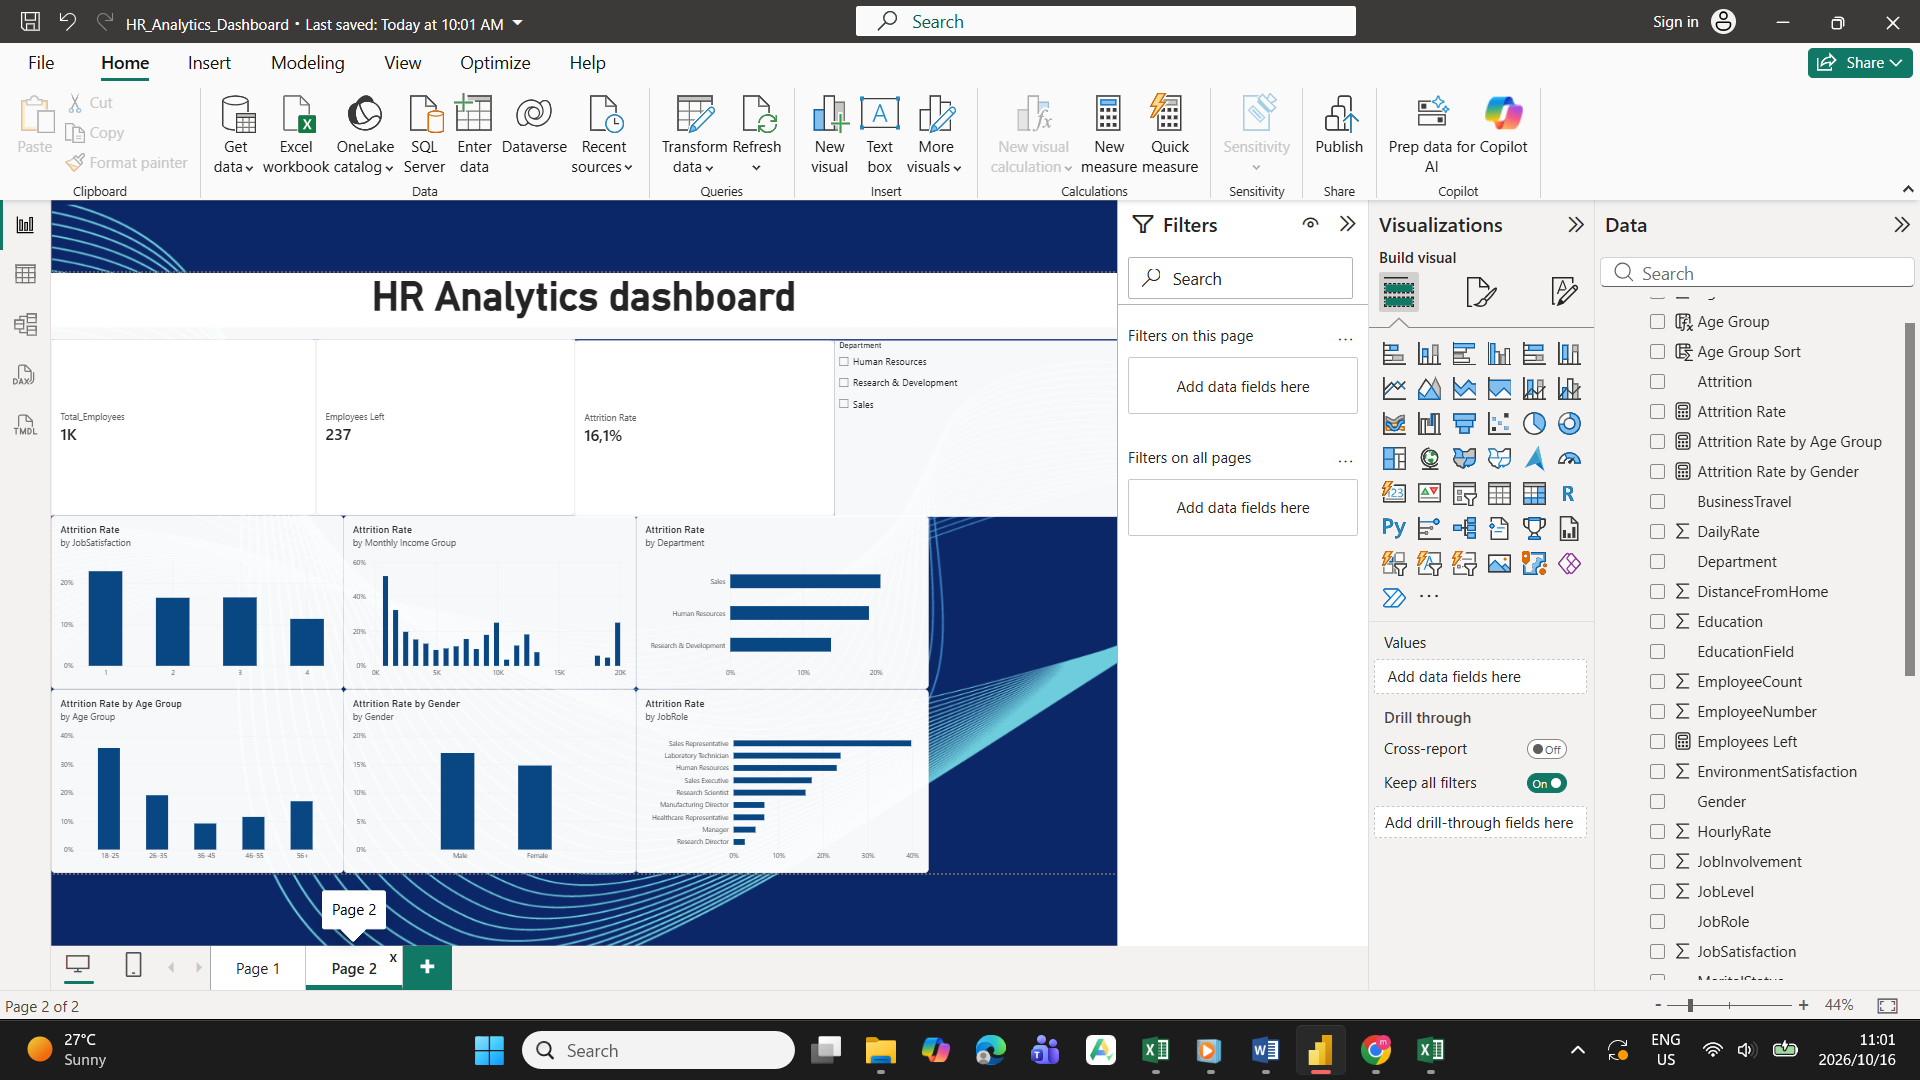

What the dashboard file says about the page in this screenshot:
{"tool":"powerbi","page":{"name":"Page 2","canvas":[1920,1080],"ordinal":1},"visuals":[{"type":"clusteredColumnChart","fields":{"Category":["Employees.Age Group"],"Y":["Employees.Attrition Rate by Age Group"]},"box":[0,749.7,526.8,331],"z":0},{"type":"cardVisual","fields":{"Data":["Employees.Total_Employees"]},"box":[0,0,477.3,317.4],"z":1},{"type":"cardVisual","fields":{"Data":["Employees.Employees Left"]},"box":[477.3,0,466,317.4],"z":2},{"type":"cardVisual","fields":{"Data":["Employees.Attrition Rate"]},"box":[943.3,0,468.3,317.4],"z":3},{"type":"clusteredColumnChart","fields":{"Category":["Employees.Gender"],"Y":["Employees.Attrition Rate by Gender"]},"box":[526.8,749.7,526.8,331],"z":7},{"type":"clusteredBarChart","fields":{"Category":["Employees.JobRole"],"Y":["Employees.Attrition Rate"]},"box":[1053.7,749.7,526.8,331],"z":8},{"type":"clusteredColumnChart","fields":{"Category":["Employees.JobSatisfaction"],"Y":["Employees.Attrition Rate"]},"box":[0,436.8,526.8,312.9],"z":9},{"type":"clusteredColumnChart","fields":{"Category":["Employees.Monthly Income Group"],"Y":["Employees.Attrition Rate"]},"box":[527,437,527,313],"z":10},{"type":"clusteredBarChart","fields":{"Category":["Employees.Department"],"Y":["Employees.Attrition Rate"]},"box":[1053.7,436.8,526.8,312.9],"z":11},{"type":"slicer","fields":{"Values":["Employees.Department"]},"box":[1497.2,0,423.3,436.8],"z":12}]}

Visuals, with their boxes on the page's 1920x1080 design canvas (x1, y1, x2, y2). These are canvas units, not pixel positions in the 1920x1080 screenshot, which may show the page scaled, cropped or inside an application window:
clusteredColumnChart - Employees.Age Group x Employees.Attrition Rate by Age Group: crop(0, 750, 527, 1081)
cardVisual - Employees.Total_Employees: crop(0, 0, 477, 317)
cardVisual - Employees.Employees Left: crop(477, 0, 943, 317)
cardVisual - Employees.Attrition Rate: crop(943, 0, 1412, 317)
clusteredColumnChart - Employees.Gender x Employees.Attrition Rate by Gender: crop(527, 750, 1054, 1081)
clusteredBarChart - Employees.JobRole x Employees.Attrition Rate: crop(1054, 750, 1580, 1081)
clusteredColumnChart - Employees.JobSatisfaction x Employees.Attrition Rate: crop(0, 437, 527, 750)
clusteredColumnChart - Employees.Monthly Income Group x Employees.Attrition Rate: crop(527, 437, 1054, 750)
clusteredBarChart - Employees.Department x Employees.Attrition Rate: crop(1054, 437, 1580, 750)
slicer - Employees.Department: crop(1497, 0, 1920, 437)
